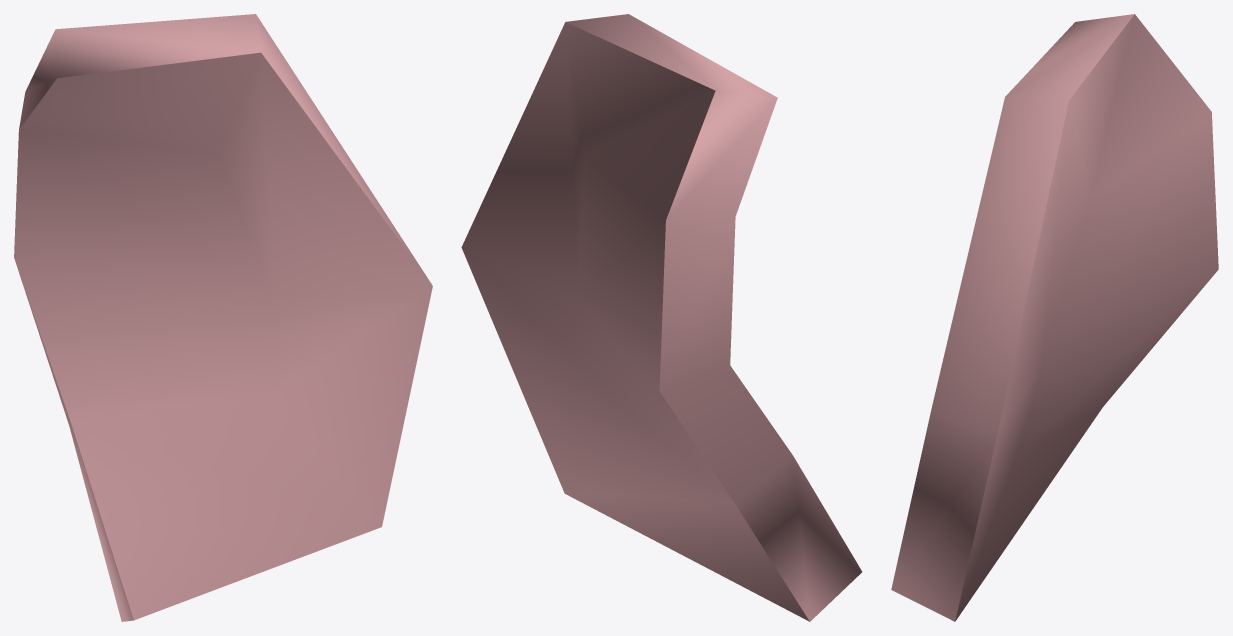
3 renders of one model, left to right at view 1: azimuth 30°, elevation 25°; view 2: azimuth 150°, elevation 25°; view 3: azimuth 270°, elevation 25°, orthographic. The views are drawn at different scales.
Parts seen in each view (by area): view 1: ZA_adc4965ec31761da; view 2: ZA_adc4965ec31761da; view 3: ZA_adc4965ec31761da.
Part boxes in pixels (x1=…): ZA_adc4965ec31761da: x1=14, y1=14, x2=432, y2=621; ZA_adc4965ec31761da: x1=461, y1=14, x2=862, y2=621; ZA_adc4965ec31761da: x1=891, y1=14, x2=1218, y2=621.
Size of the model in its own units: 0.016 by 0.0252 by 0.0137.
